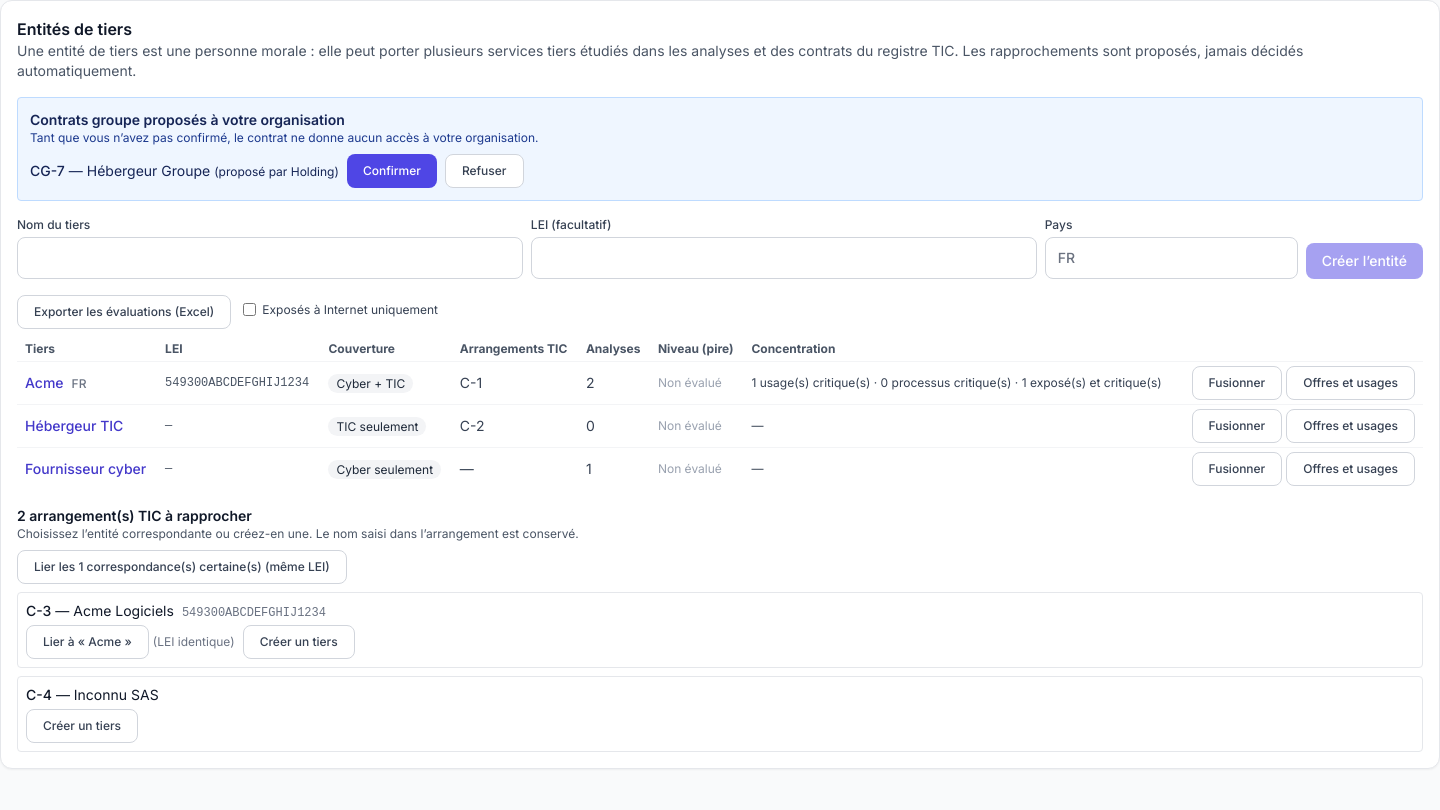
Test: TierIdentityPanel — identités de tiers › fusion bloquée (données d’une autre organisation) : raison affichée, pas de bouton de confirmation
Click the button with aria-label "Fusionner — Fournisseur cyber" at {"x": 1237, "y": 469}, box [1192, 452, 1282, 486]
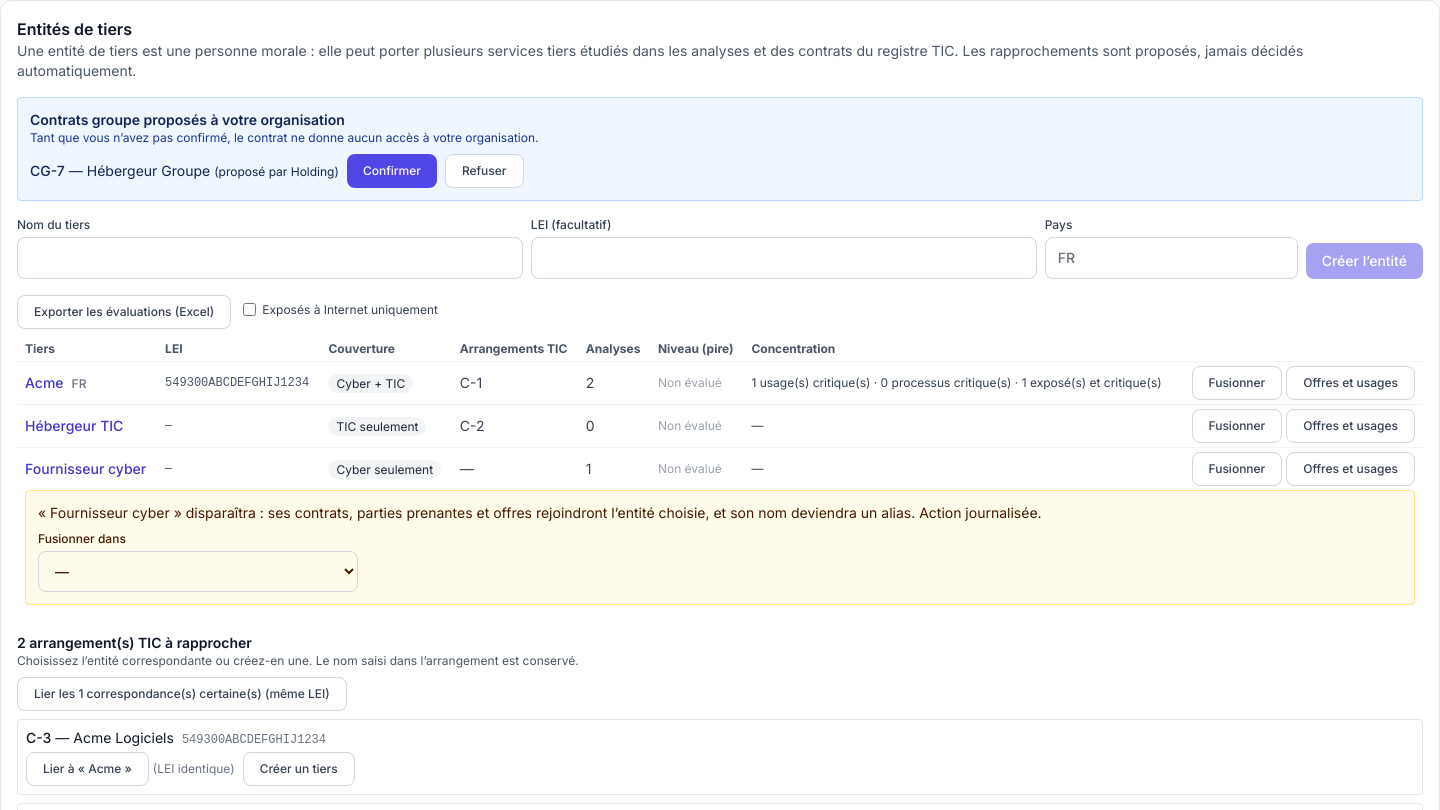
Select "Acme" in the dropdown labelled "Fusionner dans" at {"x": 198, "y": 572}, box [38, 551, 358, 592]
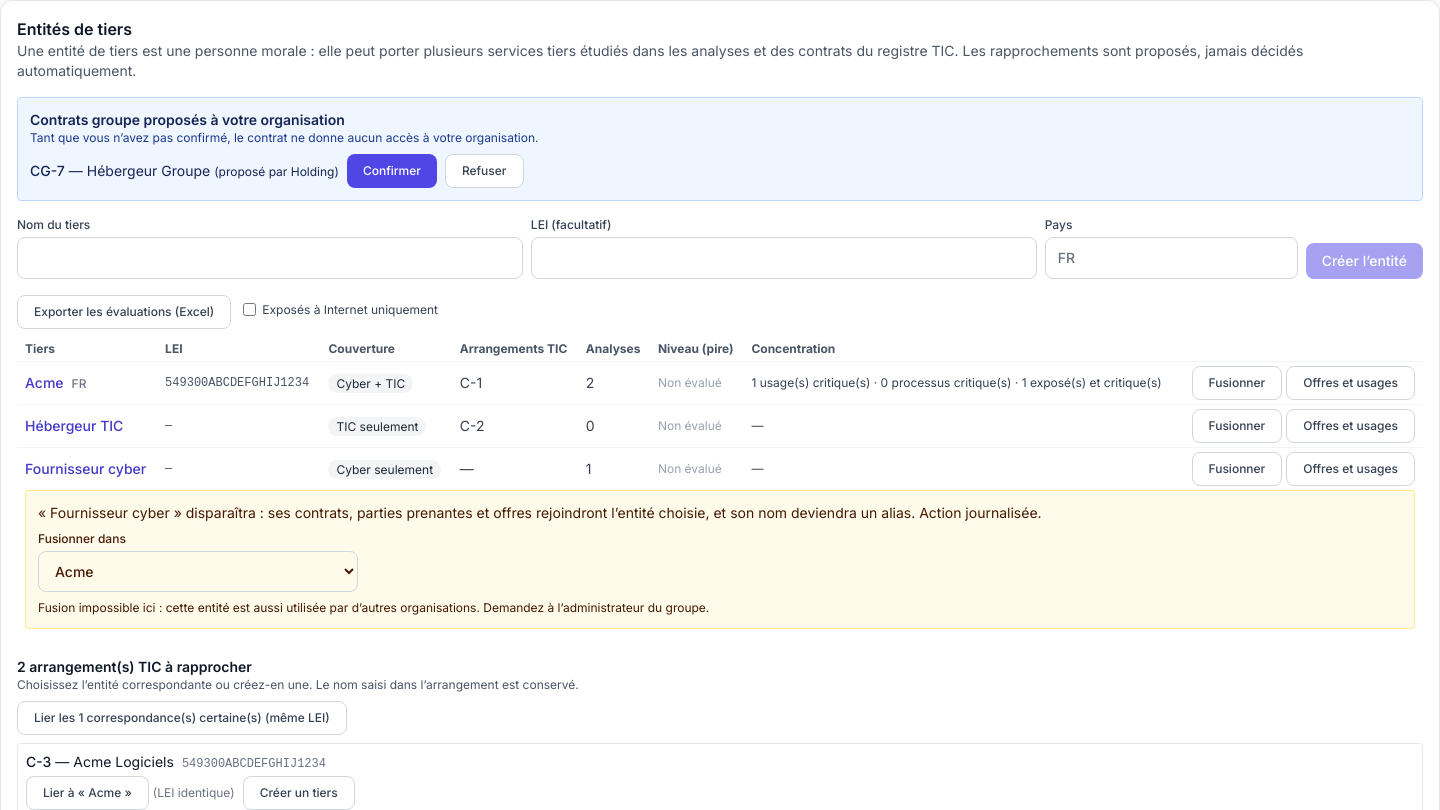
Expected: the element with test id "merge-preview" shows "administrateur du groupe", [38, 600, 709, 615]
